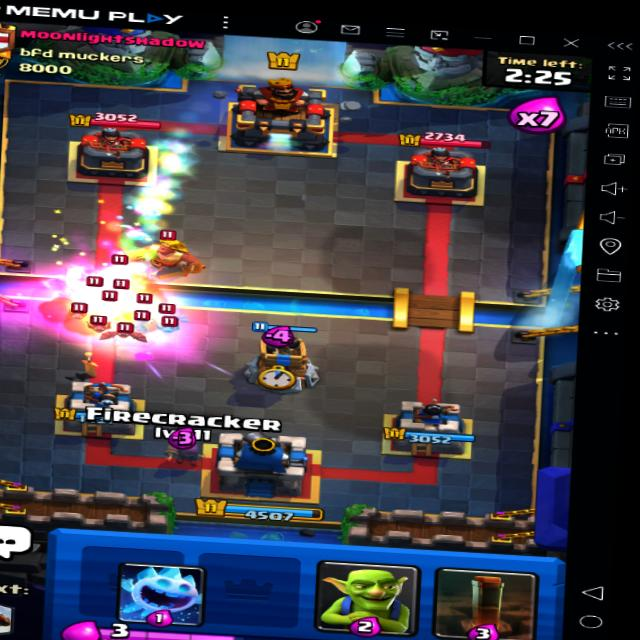bats: (98, 317, 155, 346)
golden-knight: (115, 226, 208, 278)
